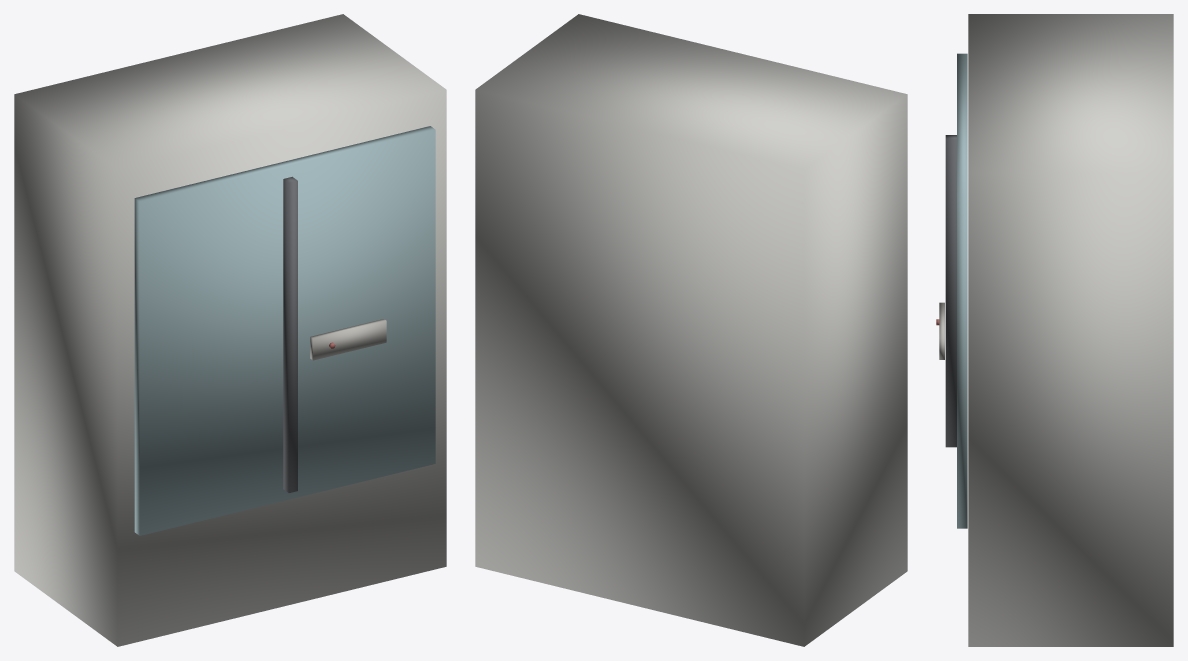
The model's file is refrigerated_display_case__reinforced.glb.
The picture shows the model from 3 angles, left to right: view 1: azimuth 30°, elevation 25°; view 2: azimuth 150°, elevation 25°; view 3: azimuth 270°, elevation 25°; orthographic projection.
Parts seen in each view (by area): view 1: world; view 2: world; view 3: world.
Boxes of the visible parts, x1,y1,x2,y2 form: world: (14, 14, 446, 646); world: (475, 14, 907, 646); world: (936, 14, 1173, 646).
Bounding box in the file's own units: 1.29 × 1.78 × 0.8096.
